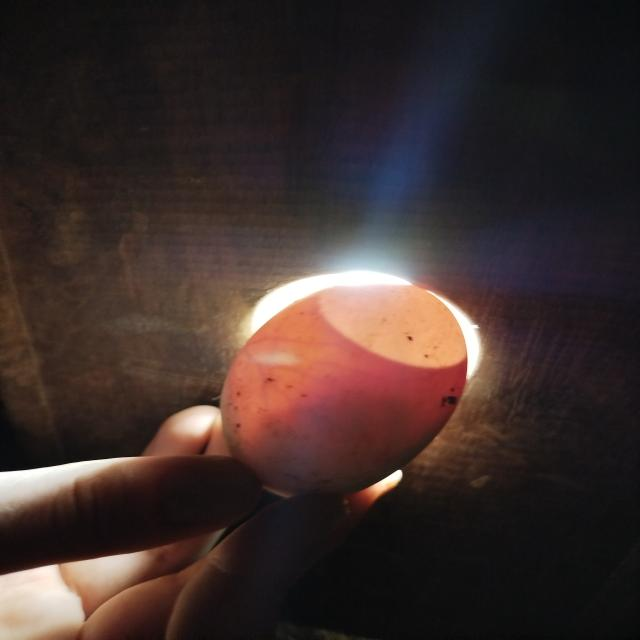Embriao: (252, 393, 433, 501)
